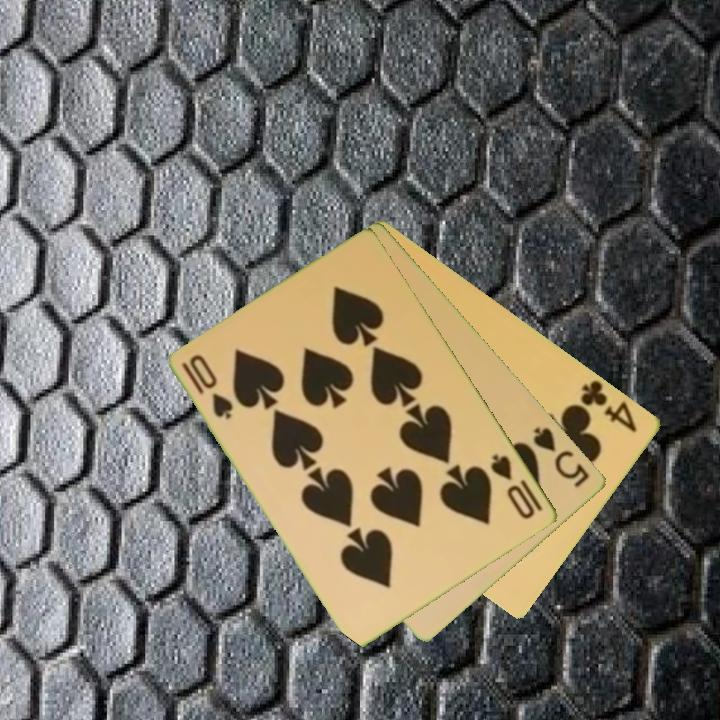10s: (179, 351, 237, 423), (487, 450, 539, 523)
4c: (577, 376, 641, 435)
5s: (530, 423, 593, 490)
